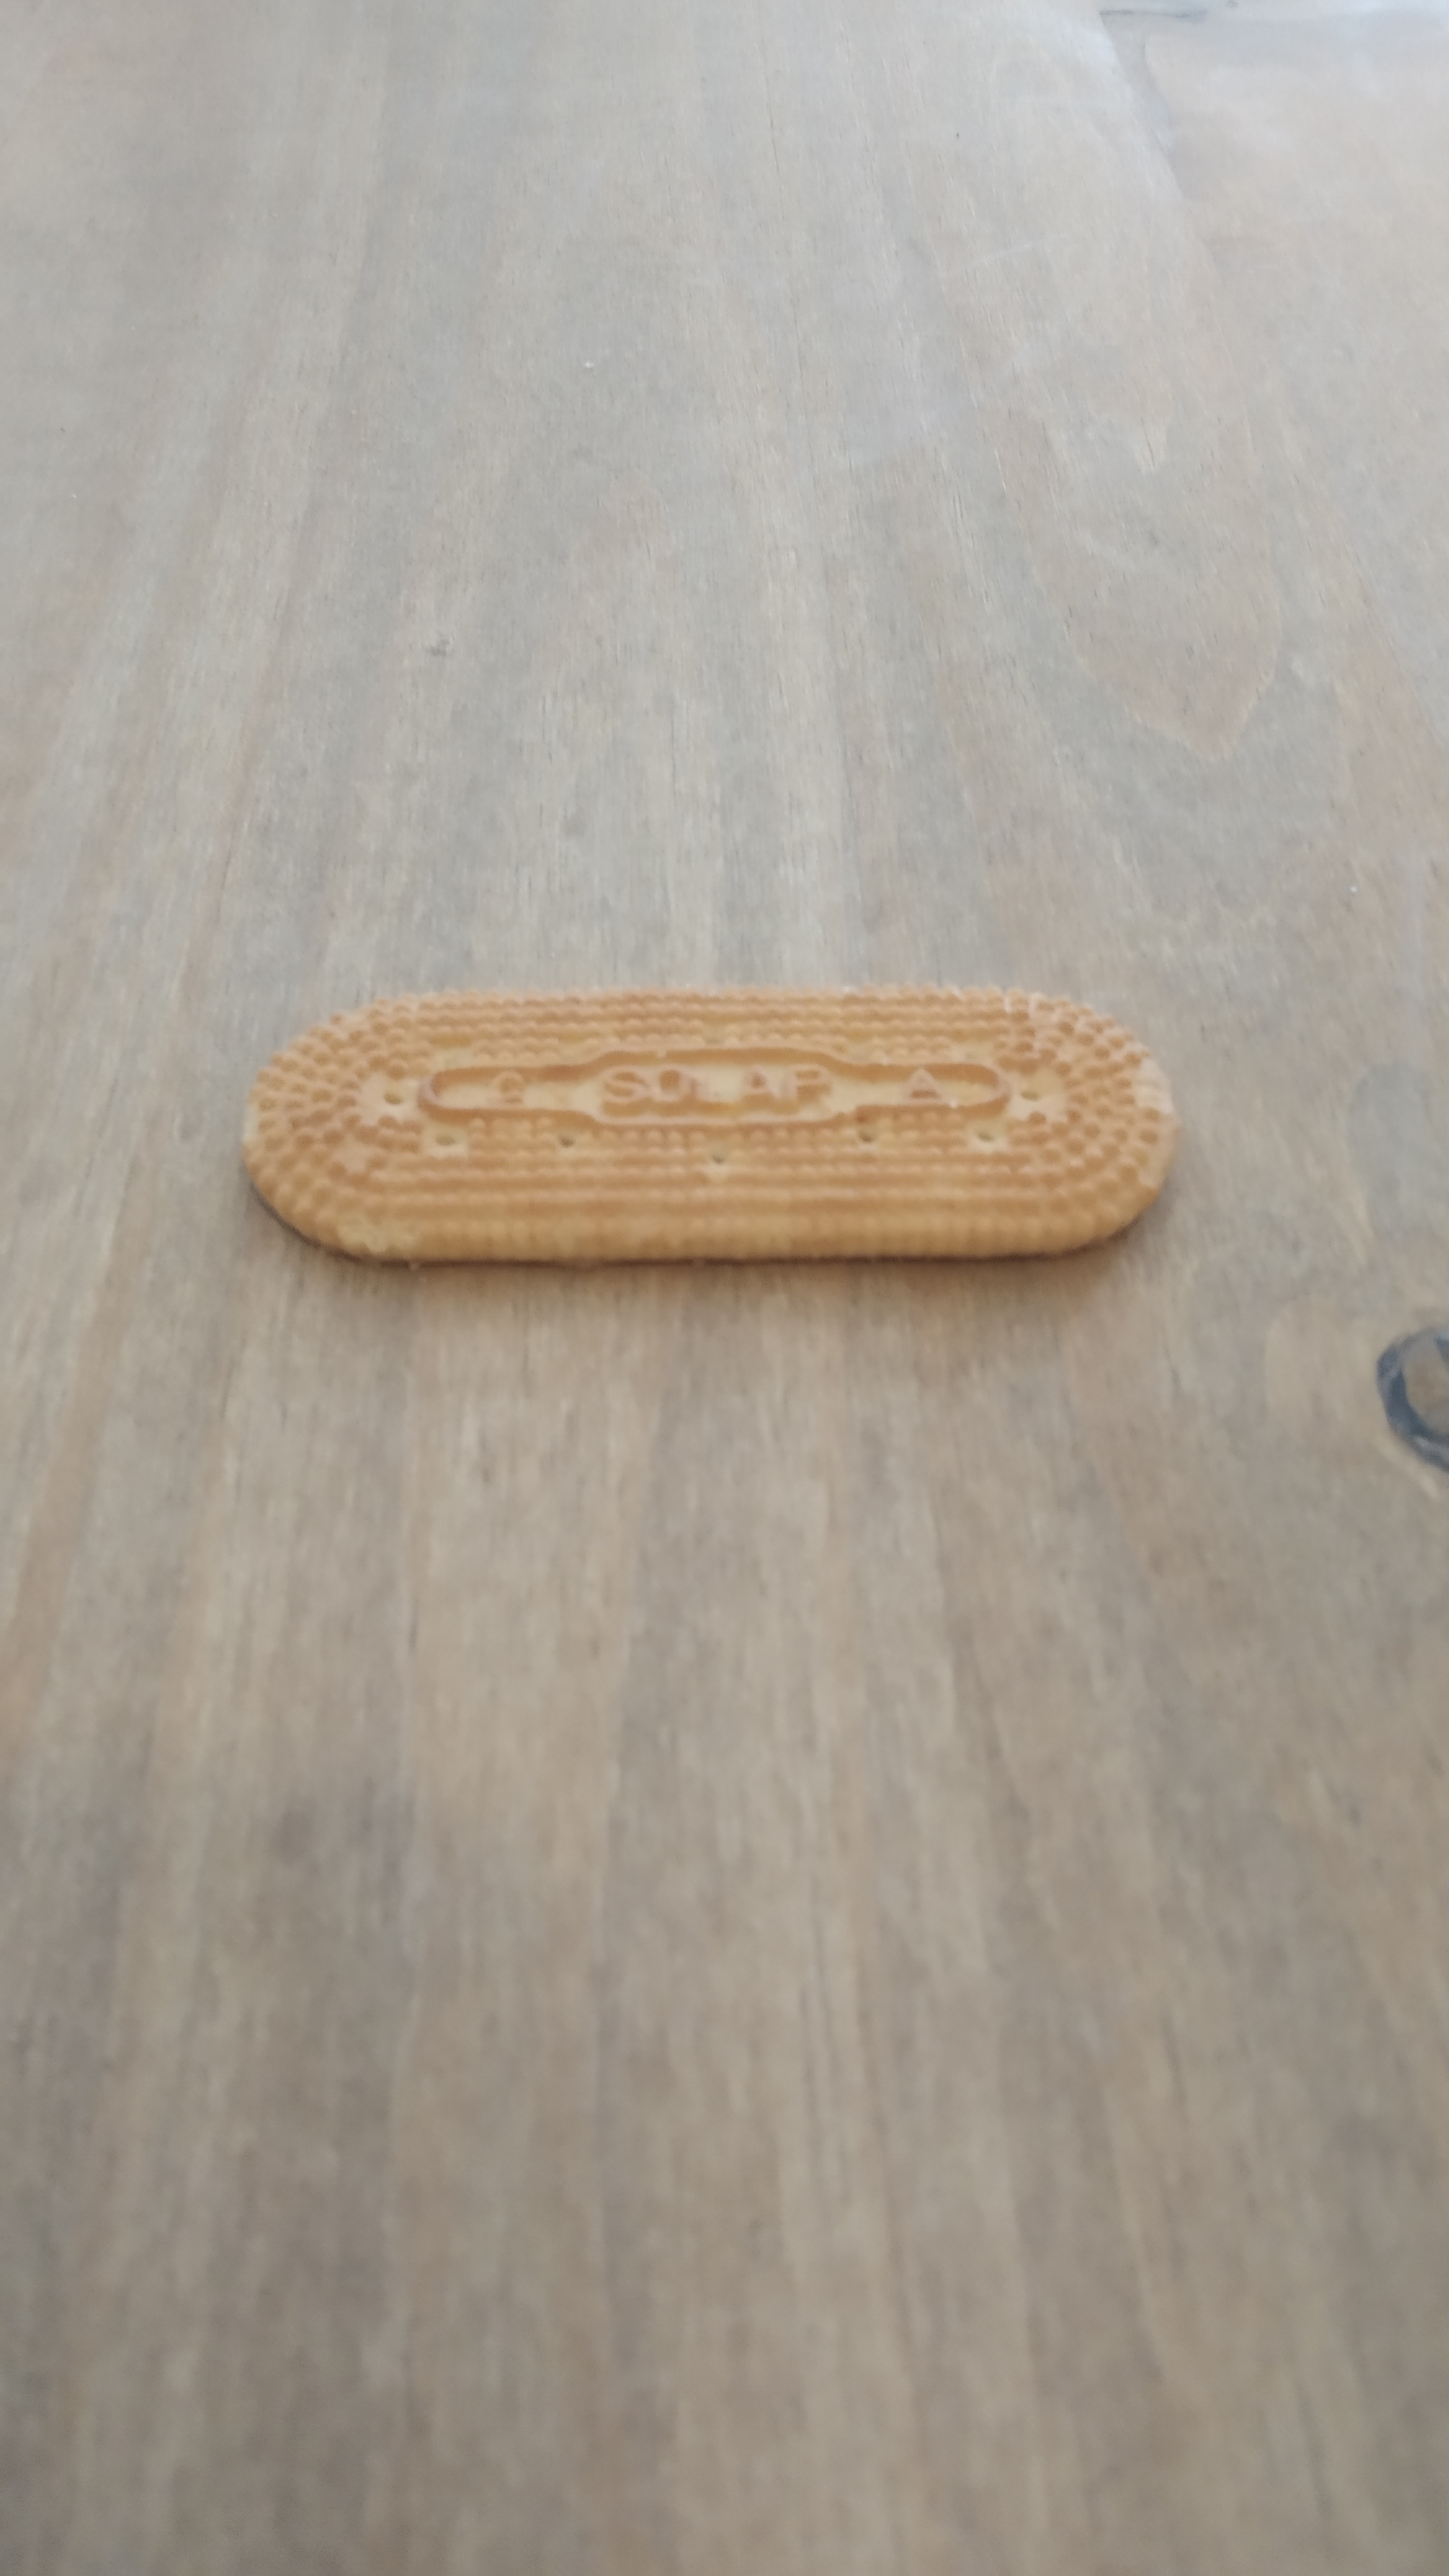solar: (242, 985, 1175, 1263)
